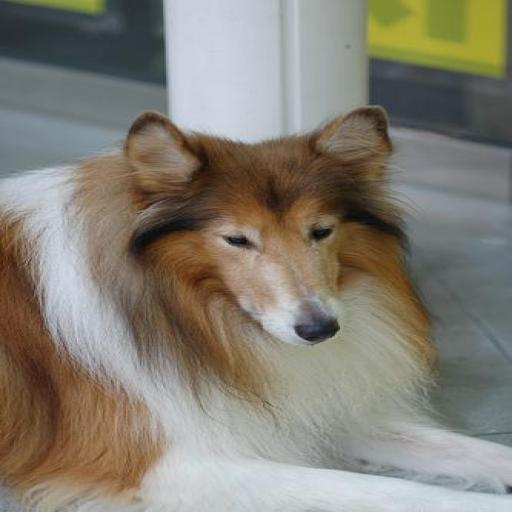dog_face: (136, 110, 391, 353)
